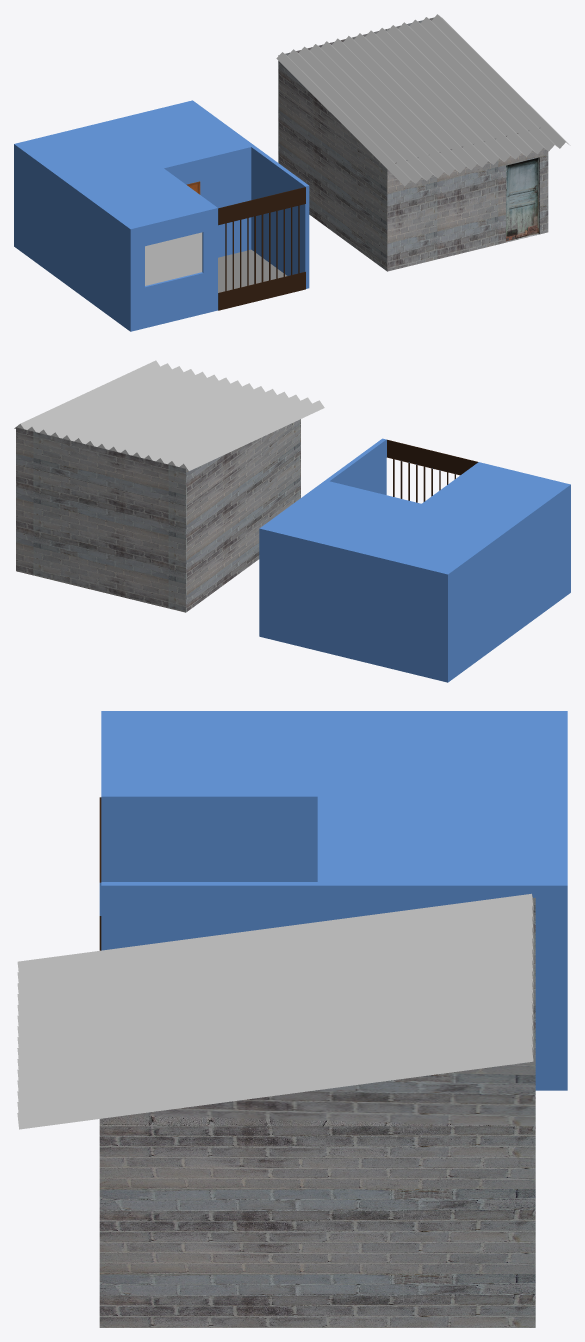
Rendered from casas2 1.fbx.
The picture shows the model from 3 angles, top to bottom: view 1: azimuth 30°, elevation 25°; view 2: azimuth 150°, elevation 25°; view 3: azimuth 270°, elevation 25°; orthographic projection. The views are drawn at different scales.
Visible parts, largest first — view 1: casapob, casaifona; view 2: casapob, casaifona; view 3: casapob, casaifona.
Boxes of the visible parts, box(x1,y1,x2,y2) form: casapob: box(276, 14, 570, 271); casaifona: box(14, 100, 309, 331); casapob: box(14, 360, 324, 612); casaifona: box(259, 438, 570, 682); casapob: box(17, 893, 535, 1327); casaifona: box(99, 711, 567, 1090).
Bounding box in the file's own units: 1916 × 610 × 1087.
